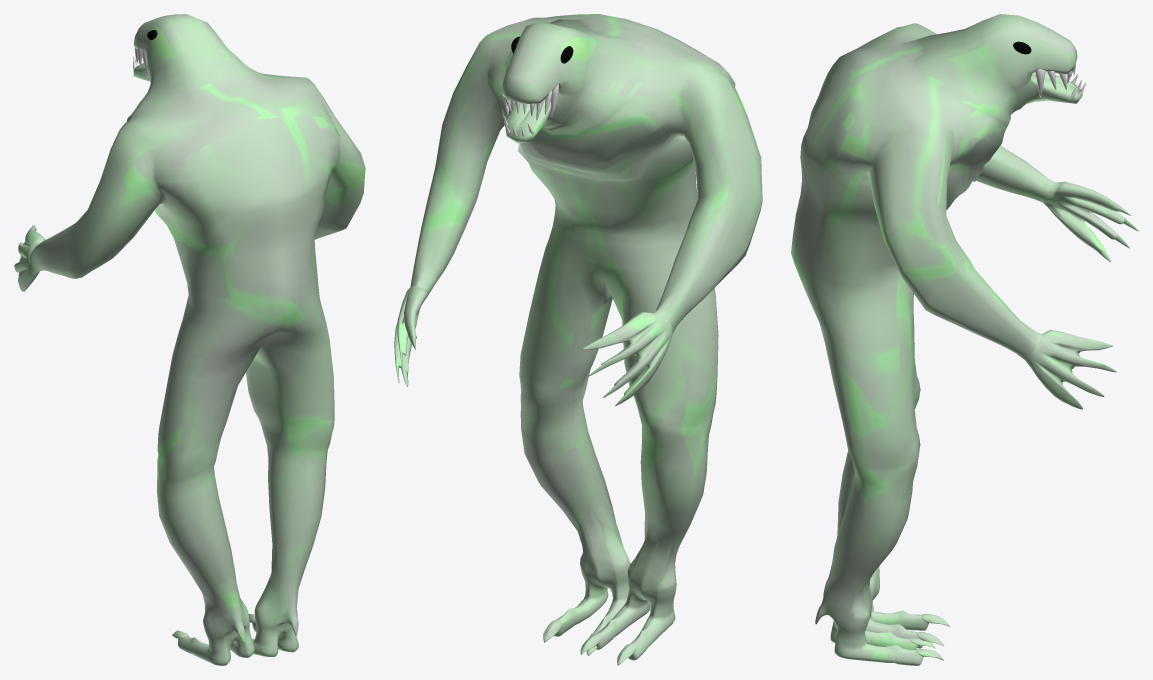
The model's file is Berserkercorrer.0021.obj.
3 views of the same model, side by side, from view 1: azimuth 30°, elevation 25°; view 2: azimuth 150°, elevation 25°; view 3: azimuth 270°, elevation 25° (orthographic). The views are drawn at different scales.
Visible parts, largest first — view 1: polySurface27; view 2: polySurface27; view 3: polySurface27.
Boxes of the visible parts, left/top/right/bottom form: polySurface27: left=14, top=14, right=365, bottom=665; polySurface27: left=394, top=14, right=762, bottom=665; polySurface27: left=791, top=14, right=1138, bottom=665.
Size of the model in its own units: 11.51 by 23.55 by 11.74.
1 material, 1 textured.
